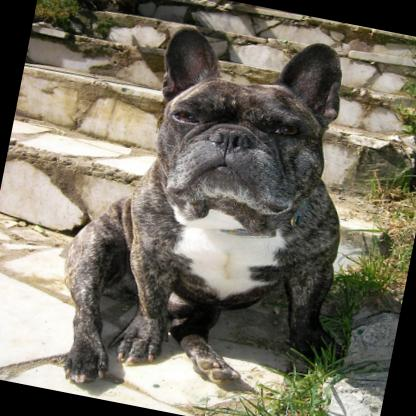French_bulldog: (38, 0, 403, 416)
